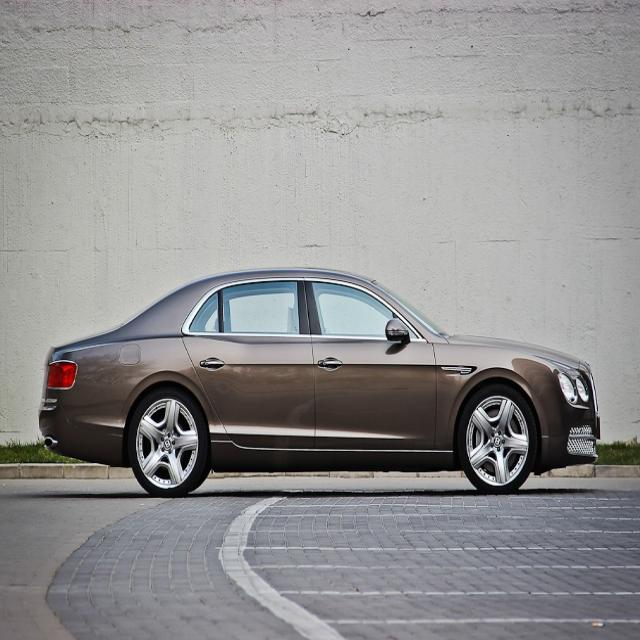back_right_side_light: (46, 356, 79, 392)
door: (180, 276, 316, 460)
front_bumper: (538, 392, 598, 473)
front_right_side_door: (302, 273, 438, 452)
front_right_side_light: (555, 369, 589, 406)
front_right_side_mirror: (384, 315, 410, 344)
wheel: (458, 380, 536, 495), (129, 382, 206, 497)
